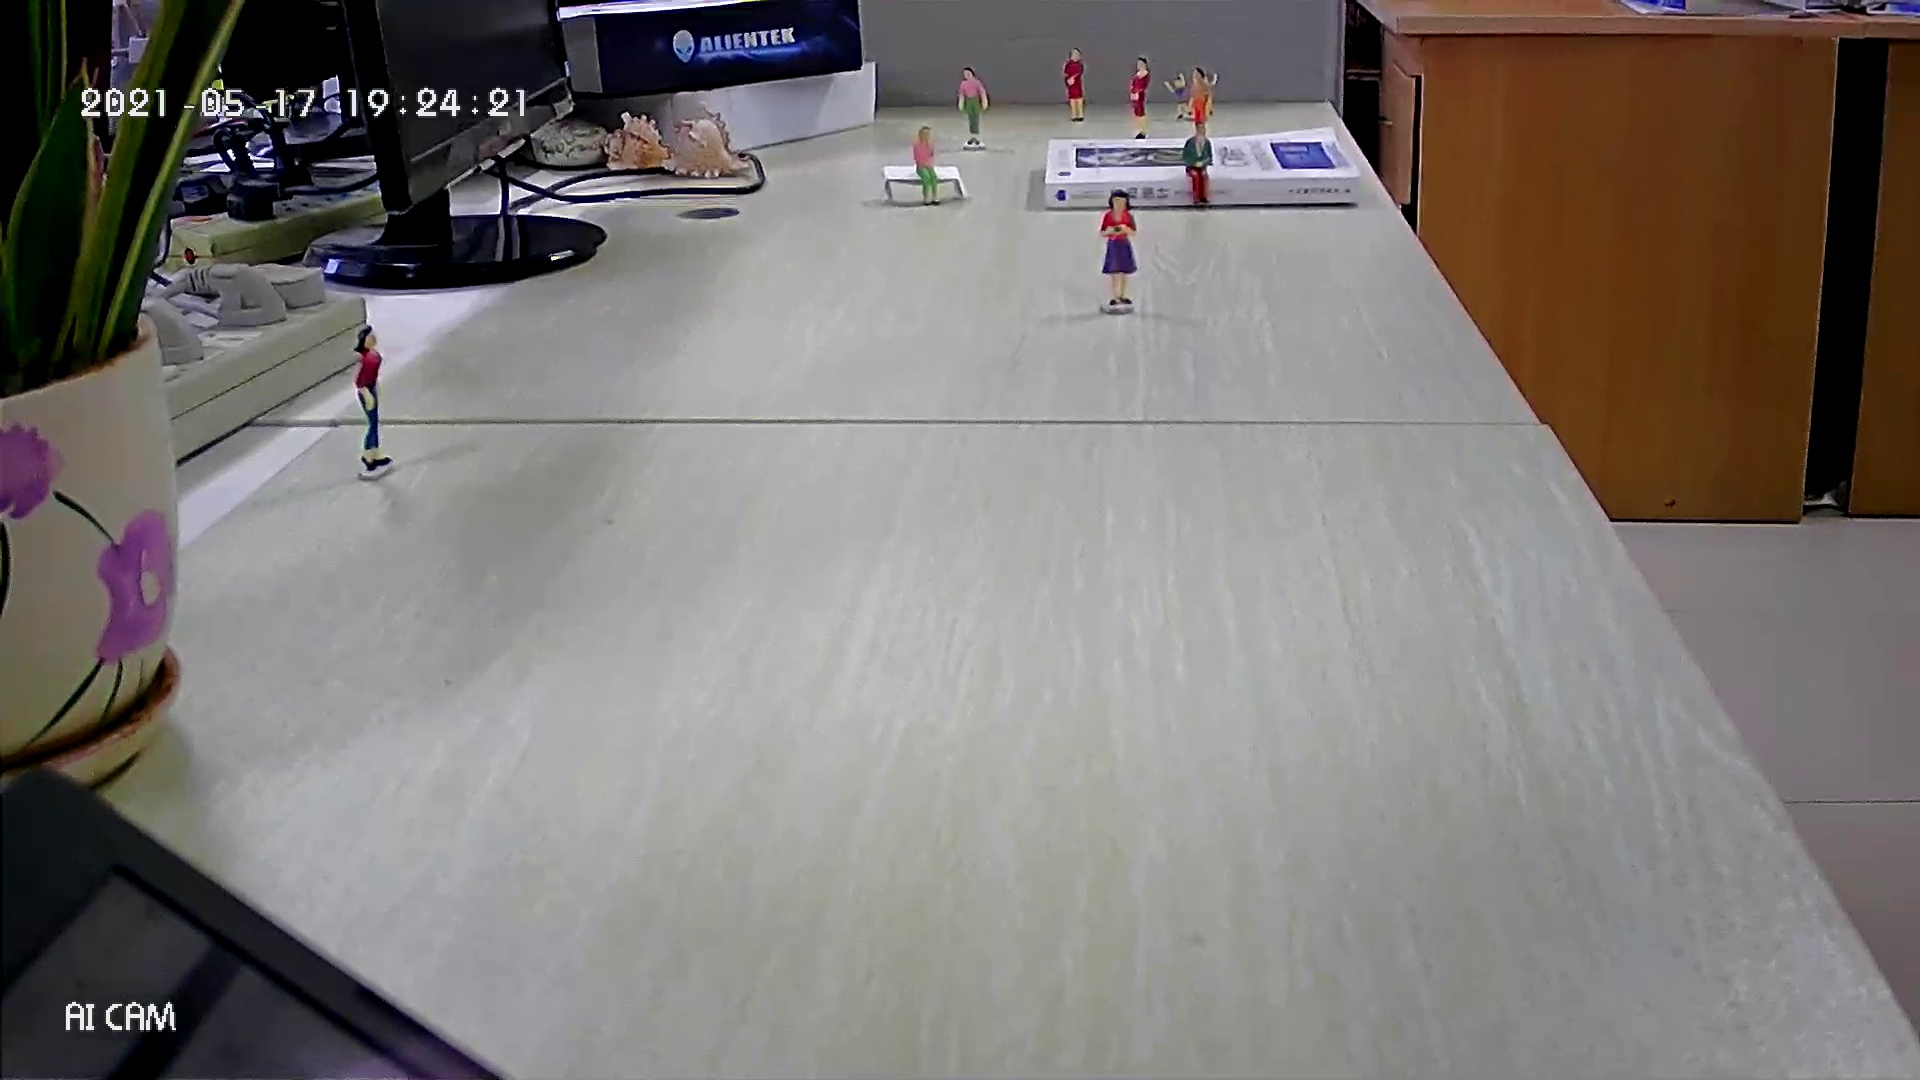person: (349, 322, 393, 474), (1093, 188, 1143, 310), (911, 122, 947, 212), (955, 64, 991, 148), (1181, 124, 1217, 210), (1123, 52, 1155, 140), (1057, 42, 1091, 126), (1185, 66, 1213, 136), (1163, 72, 1197, 124), (1203, 68, 1221, 120)
